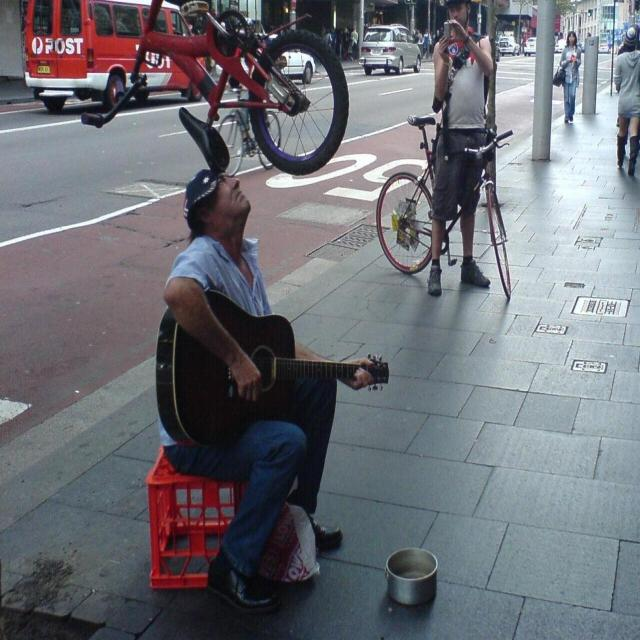guitar: (155, 284, 389, 449)
